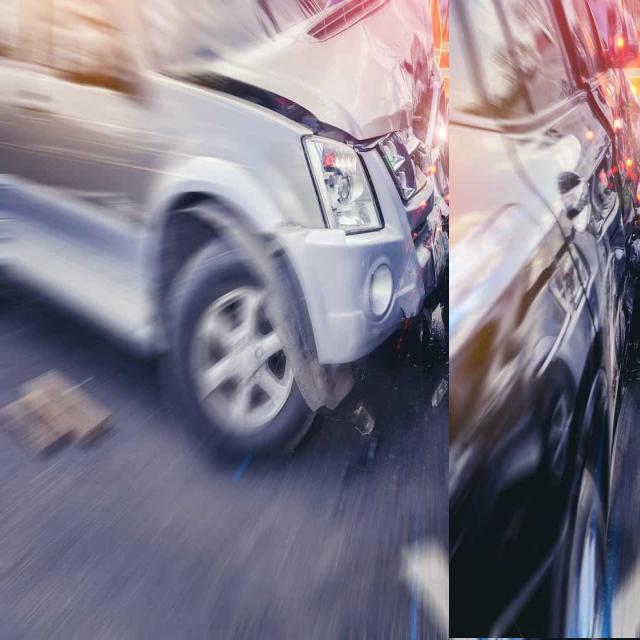accident: (0, 0, 452, 453), (449, 0, 640, 638)
